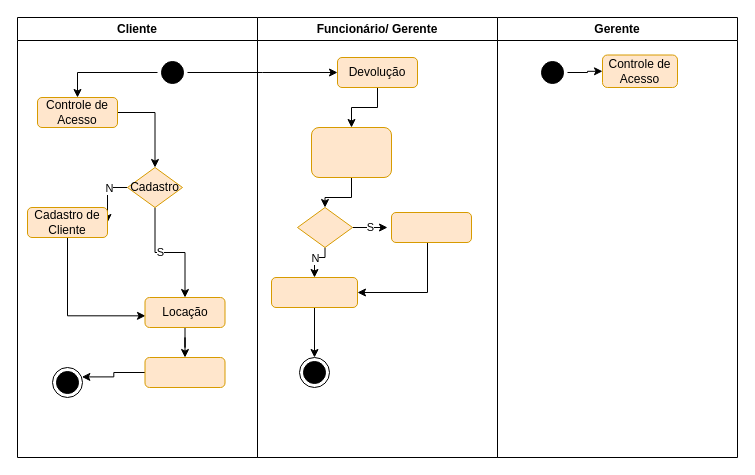
Image size: 755x475. Some labels were removed from this diagram. Each missing label, with the centre of its shape:
"Gera Multa" belongs at point (431, 227).
"Multa" belongs at point (324, 227).
"Registra Pagamento" belongs at point (314, 292).
"Reserva" belongs at point (184, 372).
"Verifica Estado da Locação" belongs at point (351, 152).
